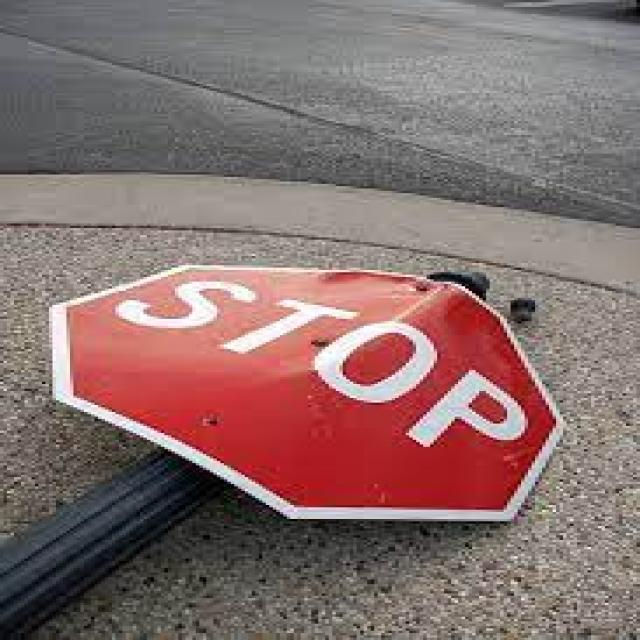stop-sign: (82, 265, 518, 529)
